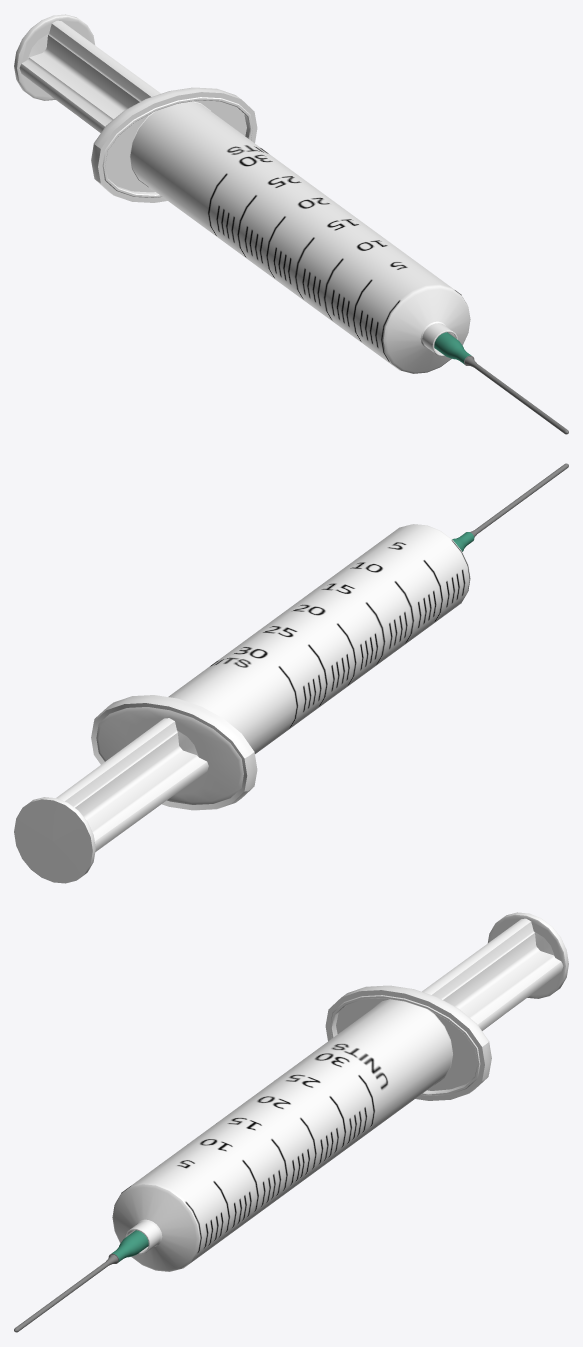
File: syringe_v2.fbx
3 views of the same model, one above another, from view 1: azimuth 30°, elevation 25°; view 2: azimuth 150°, elevation 25°; view 3: azimuth 330°, elevation 25° (orthographic).
Visible parts, largest first — view 1: syringe_v2; view 2: syringe_v2; view 3: syringe_v2.
Boxes of the visible parts, x1,y1,x2,y2 form: syringe_v2: [14, 14, 568, 434]; syringe_v2: [14, 463, 568, 883]; syringe_v2: [14, 912, 568, 1332].
Size of the model in its own units: 3.21 by 2 by 17.93.
1 material, 1 textured.
